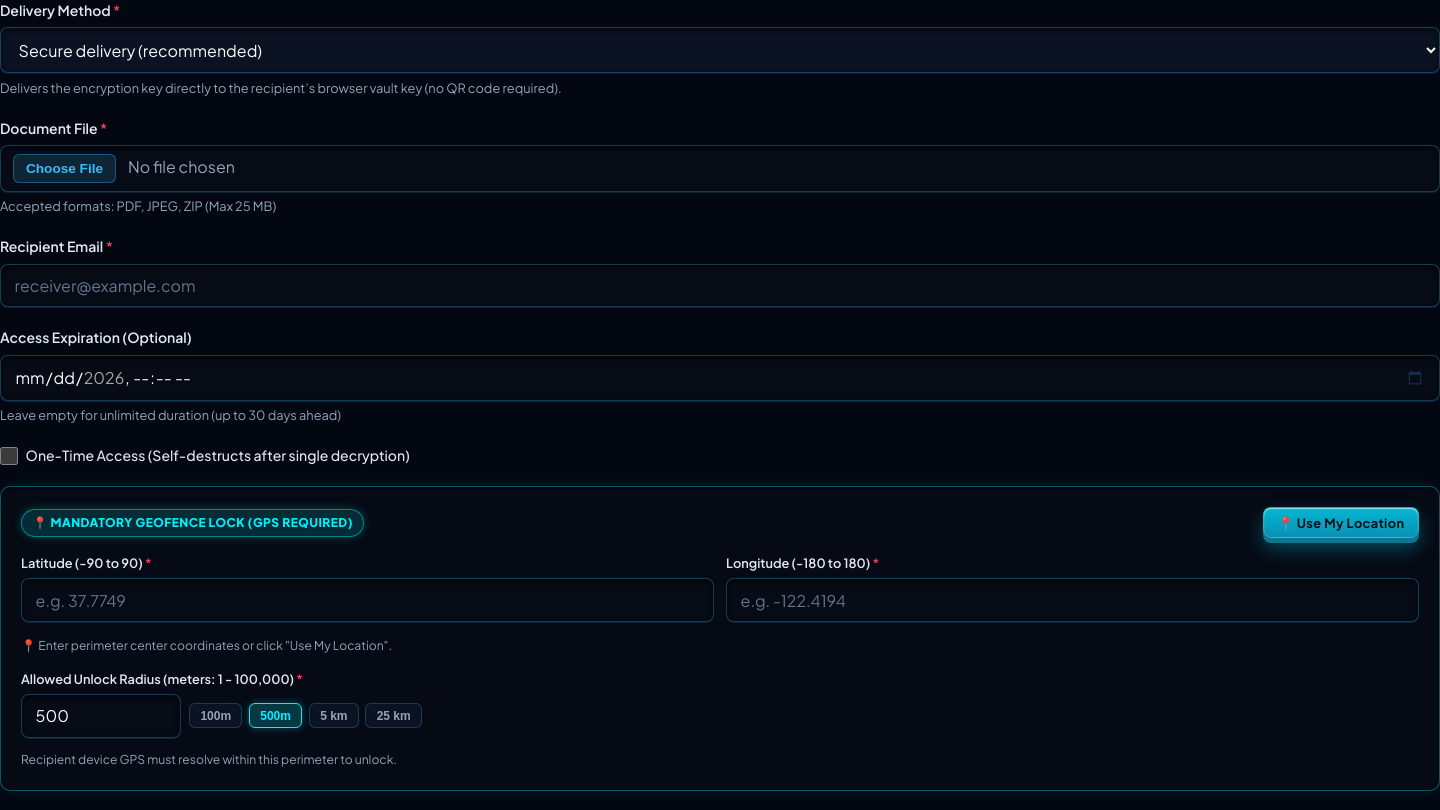
it: UploadForm Component Tests › Phase 7 Batch 2 Secure Delivery & Vault Key Integration › fetches receiver key on blur and displays fingerprint in wrapped mode
Type "alice@example.com" into the field labelled "Recipient Email *" at (720, 286), box [0, 264, 1439, 308]
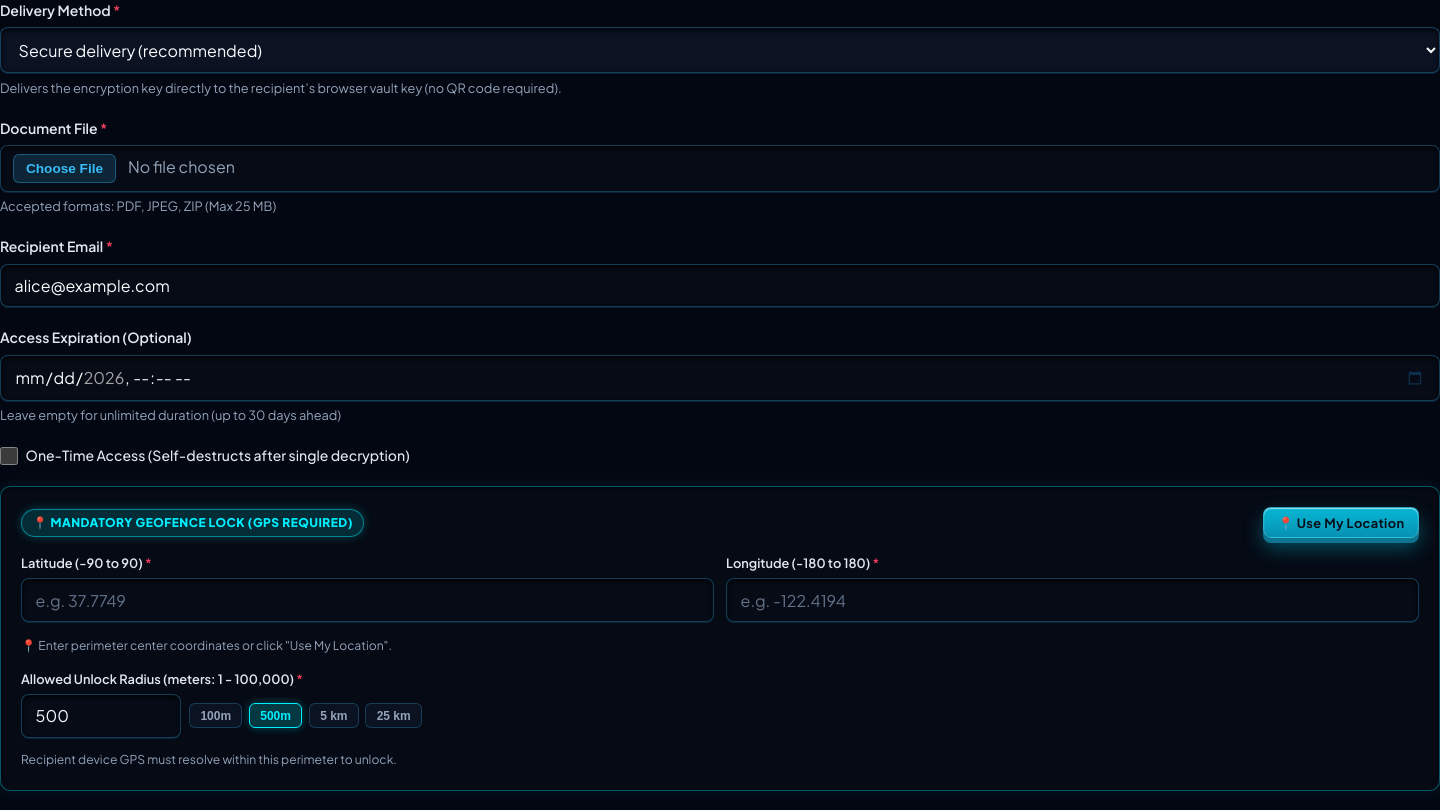
Leave the field labelled "Recipient Email *", box [0, 264, 1439, 308]
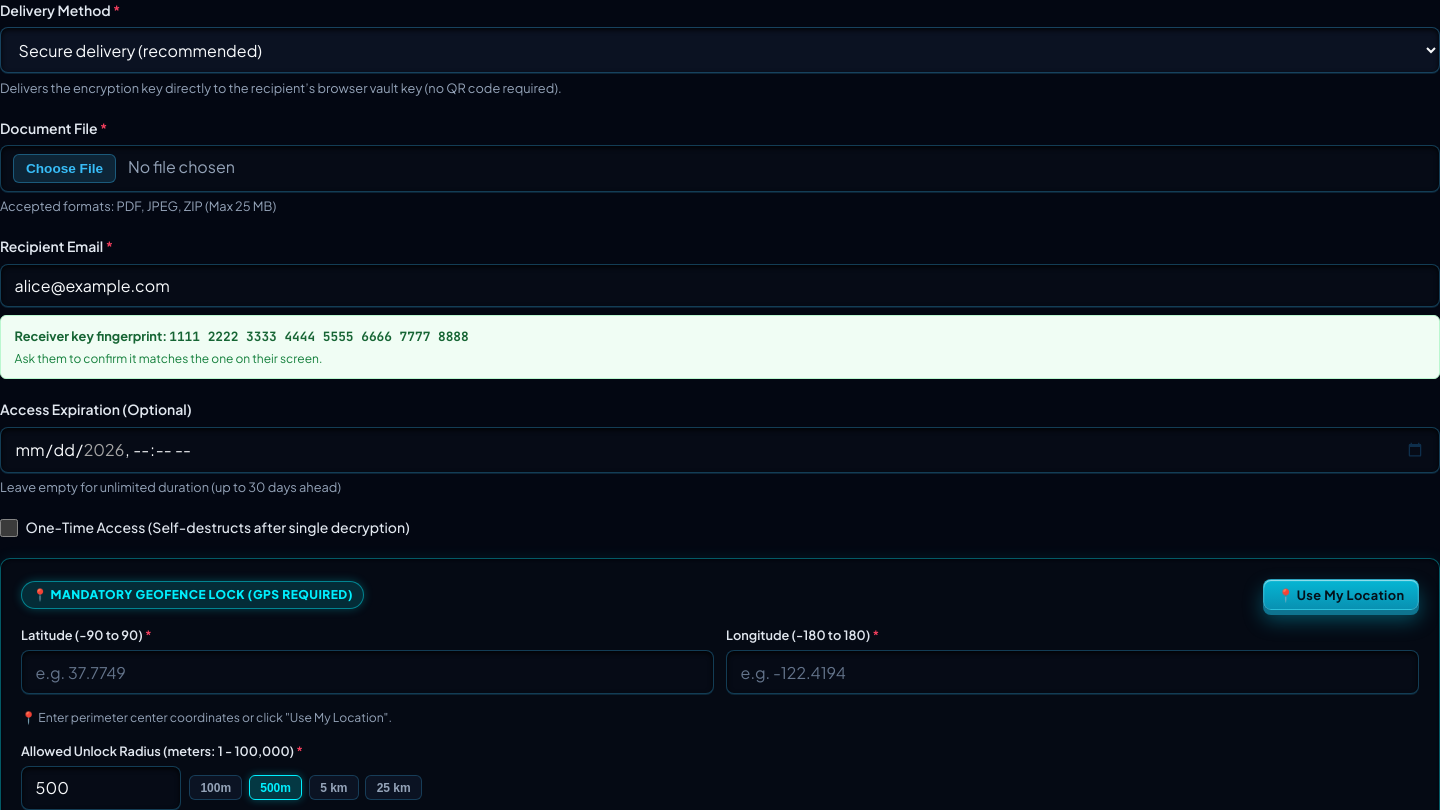
Now the text "Receiver key fingerprint:" is shown, box [15, 328, 167, 344]
Now the text "1111 2222 3333 4444 5555 6666 7777 8888" is shown, box [169, 328, 469, 345]
Now the text "Ask them to confirm it matches the one on their screen." is shown, box [15, 351, 322, 366]
